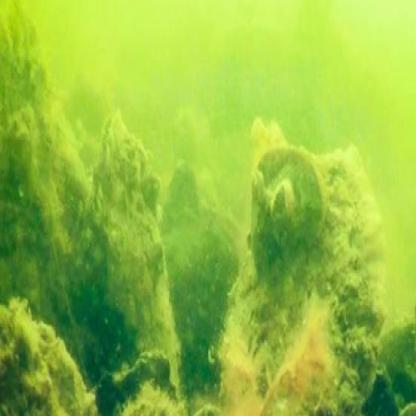Oyster- Indeterminate: (197, 218, 241, 300)
Oyster-Closed: (214, 150, 384, 416), (65, 113, 178, 362), (0, 305, 87, 416), (251, 143, 323, 276), (164, 159, 199, 220)
